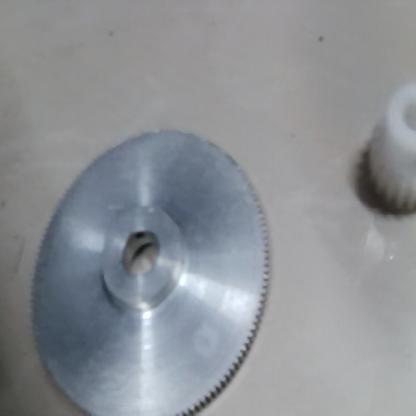FOD: (19, 125, 277, 415), (364, 70, 416, 222)
